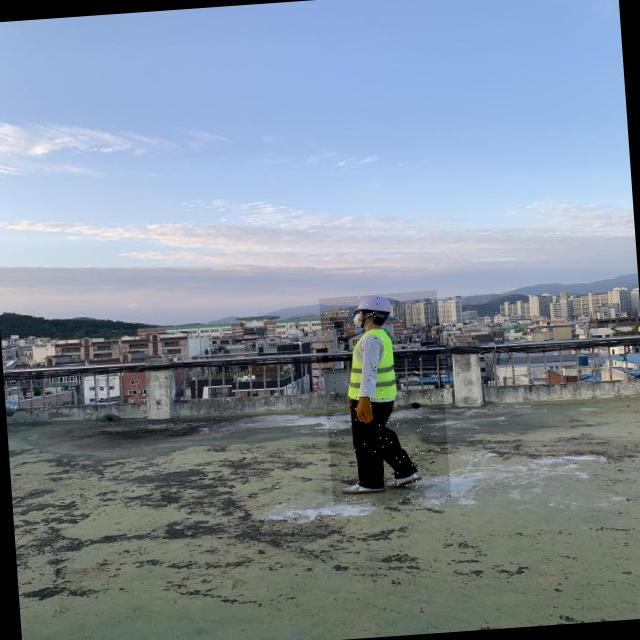Gloves: (349, 392, 380, 428)
Helmet: (352, 294, 392, 315)
Person: (328, 284, 436, 513)
Safety Boot: (385, 472, 423, 489), (341, 482, 386, 495)
Safety Vest: (343, 328, 398, 401)
